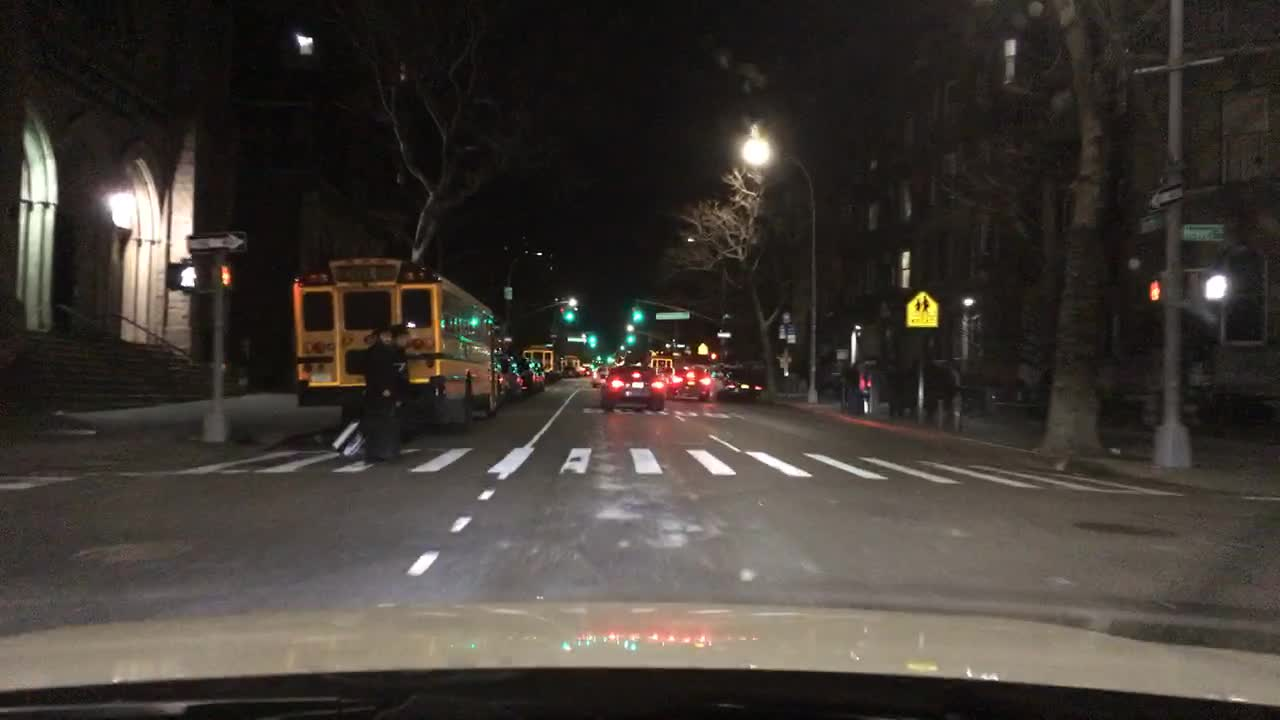bus: (292, 257, 503, 432), (525, 342, 557, 376), (560, 349, 579, 366)
car: (600, 365, 665, 412), (825, 357, 885, 401), (668, 363, 712, 403), (907, 349, 930, 422), (717, 366, 763, 402), (933, 357, 960, 417), (883, 353, 907, 418), (497, 351, 527, 397), (512, 356, 542, 394), (493, 362, 512, 408), (647, 354, 675, 382), (532, 357, 548, 393), (589, 361, 607, 388), (563, 363, 584, 379), (550, 367, 564, 377)
person: (361, 322, 414, 463)
traffic light: (1190, 264, 1234, 307), (167, 259, 212, 296), (1146, 268, 1169, 307), (219, 262, 237, 292), (632, 299, 644, 322), (563, 301, 574, 321), (625, 333, 637, 346), (590, 331, 598, 347)
traffic sign: (187, 228, 247, 254), (905, 288, 940, 332), (1148, 179, 1186, 208), (1183, 223, 1228, 241), (1136, 214, 1166, 236), (654, 309, 693, 322), (563, 331, 587, 345), (693, 342, 708, 357), (714, 332, 734, 341), (567, 337, 588, 342)
